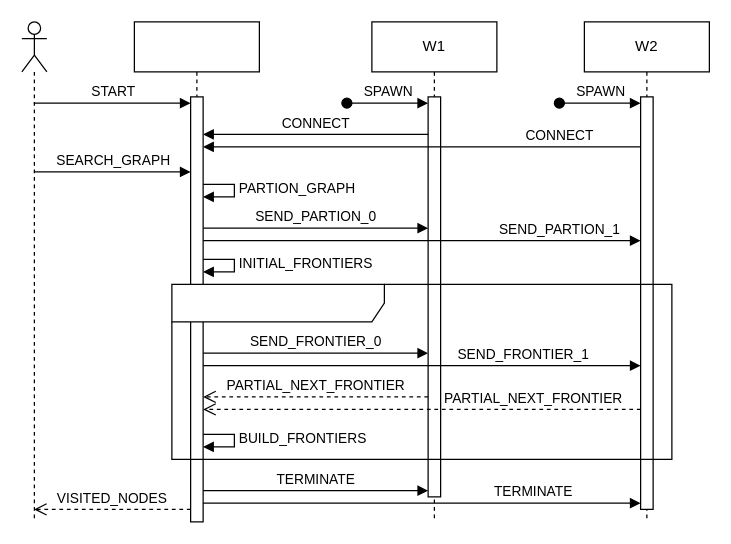
Image size: 731x544. Some labels were removed from this diagram. Each missing label, with the centre of its shape:
Coordinator: the point at 196,271
while count(FRONTIER) > 0: the point at 421,371
